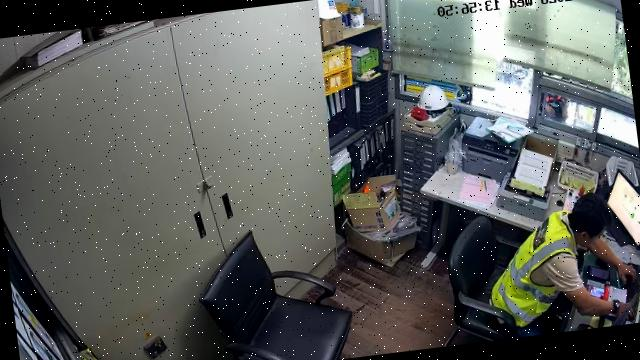Head: (568, 194, 611, 246)
People: (492, 194, 635, 337)
Phone: (589, 266, 609, 281), (586, 286, 603, 298)
